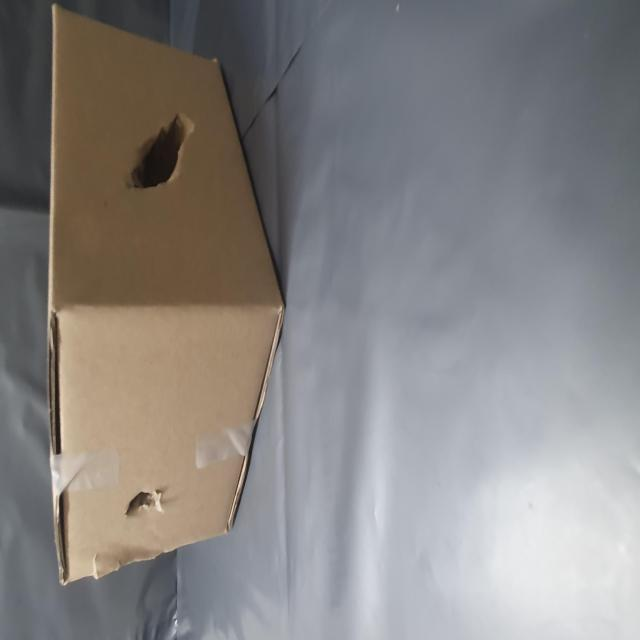damaged: (244, 215, 302, 356), (62, 224, 94, 298)
